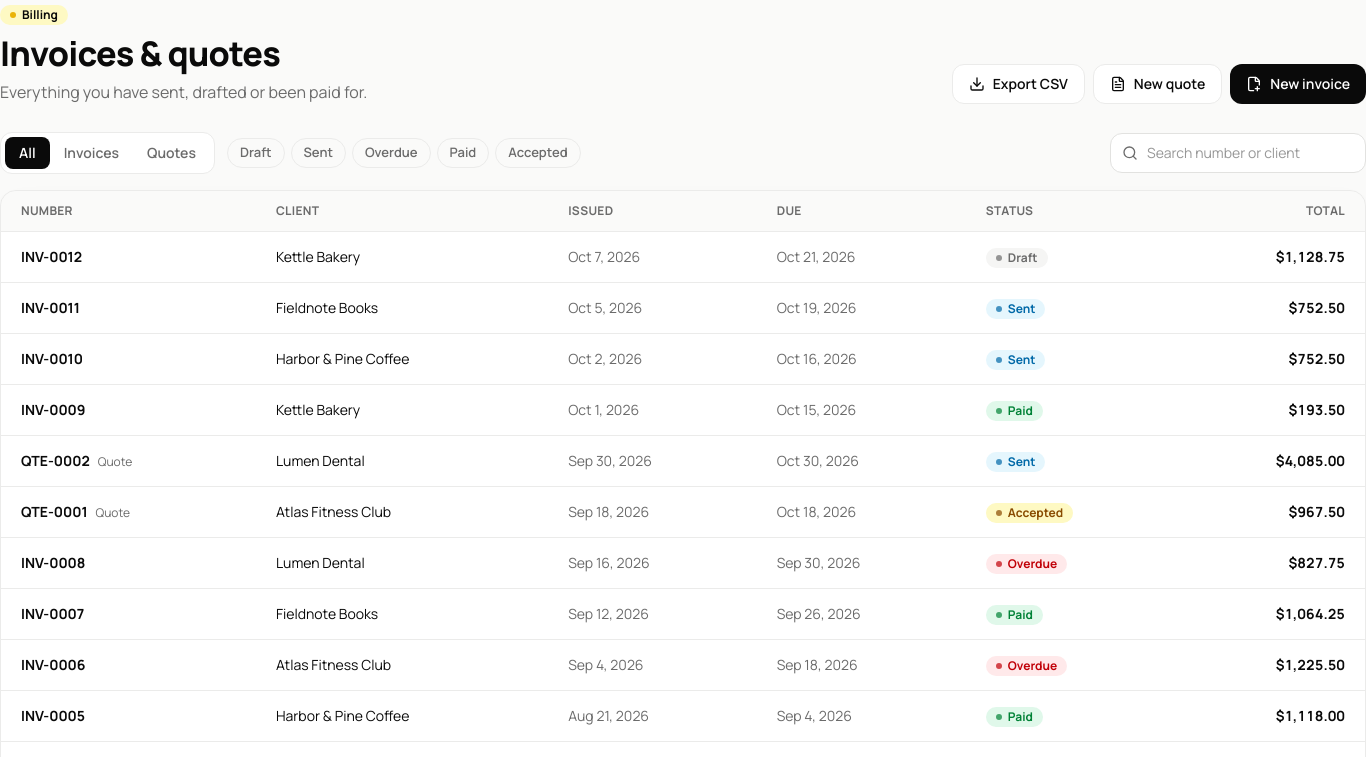
Documents page › filters by type and status, and searches by client
The width and height of the screenshot is (1366, 757).
Click the tab "Quotes" at (171, 153), box x1=133 y1=137 x2=210 y2=169
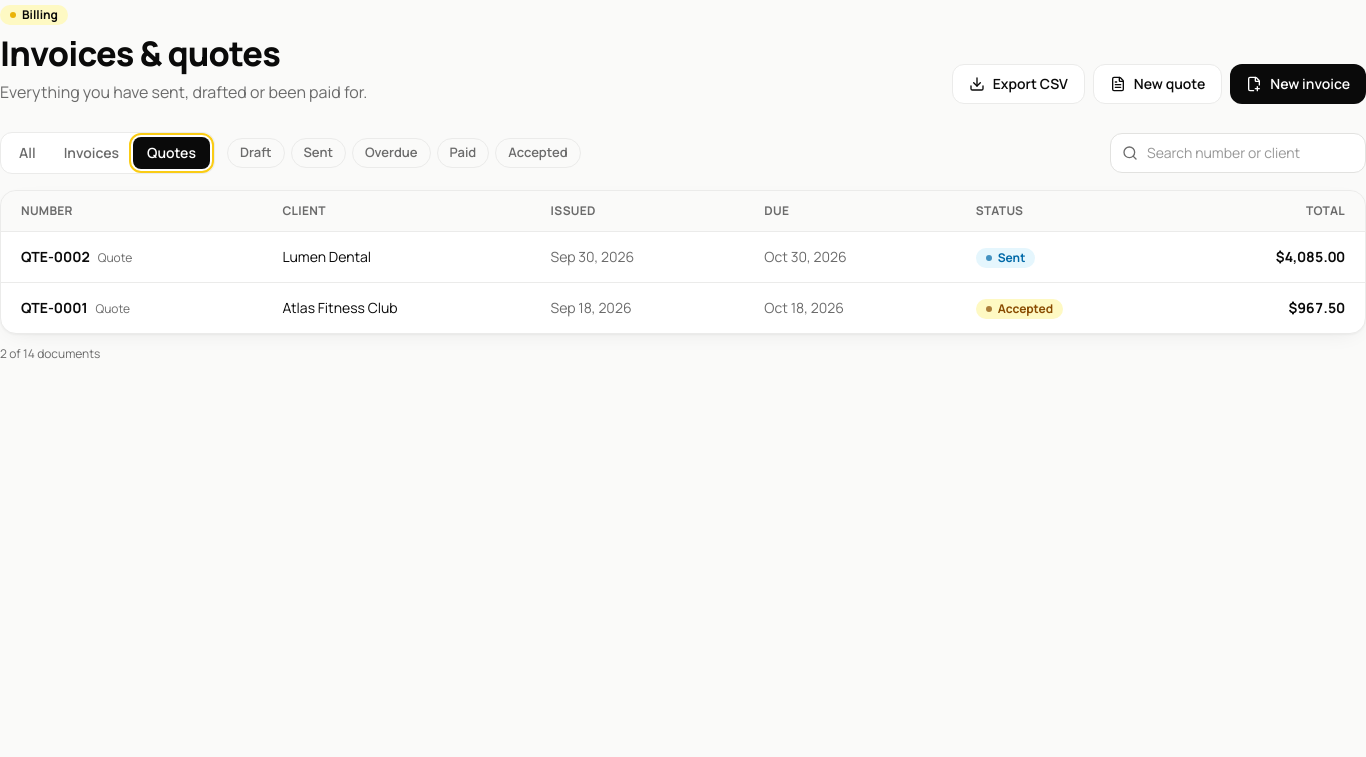
Expected: the text "2 of 14 documents" is shown, x1=0 y1=345 x2=100 y2=362
Click the tab "Invoices" at (91, 153), box x1=50 y1=137 x2=133 y2=169
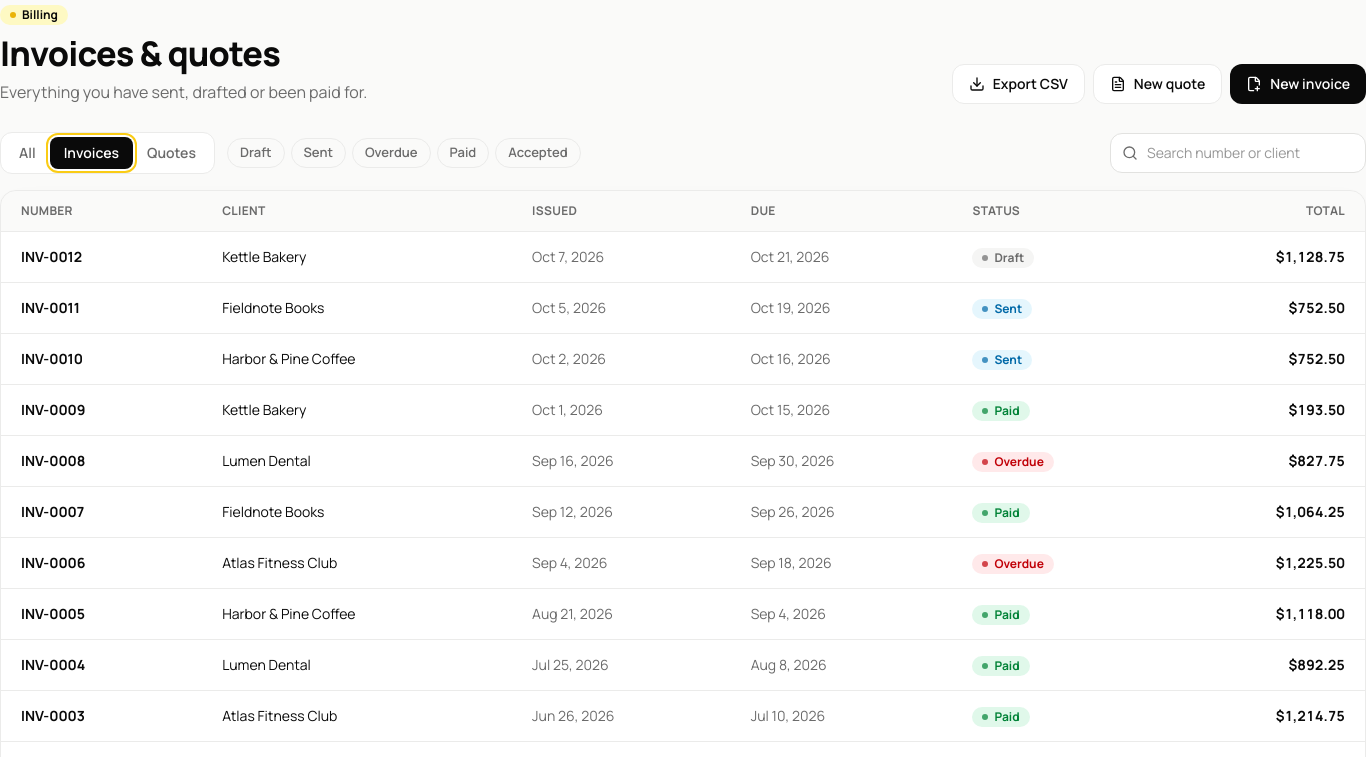
Click the button "Overdue" at (391, 153), box x1=352 y1=138 x2=431 y2=168
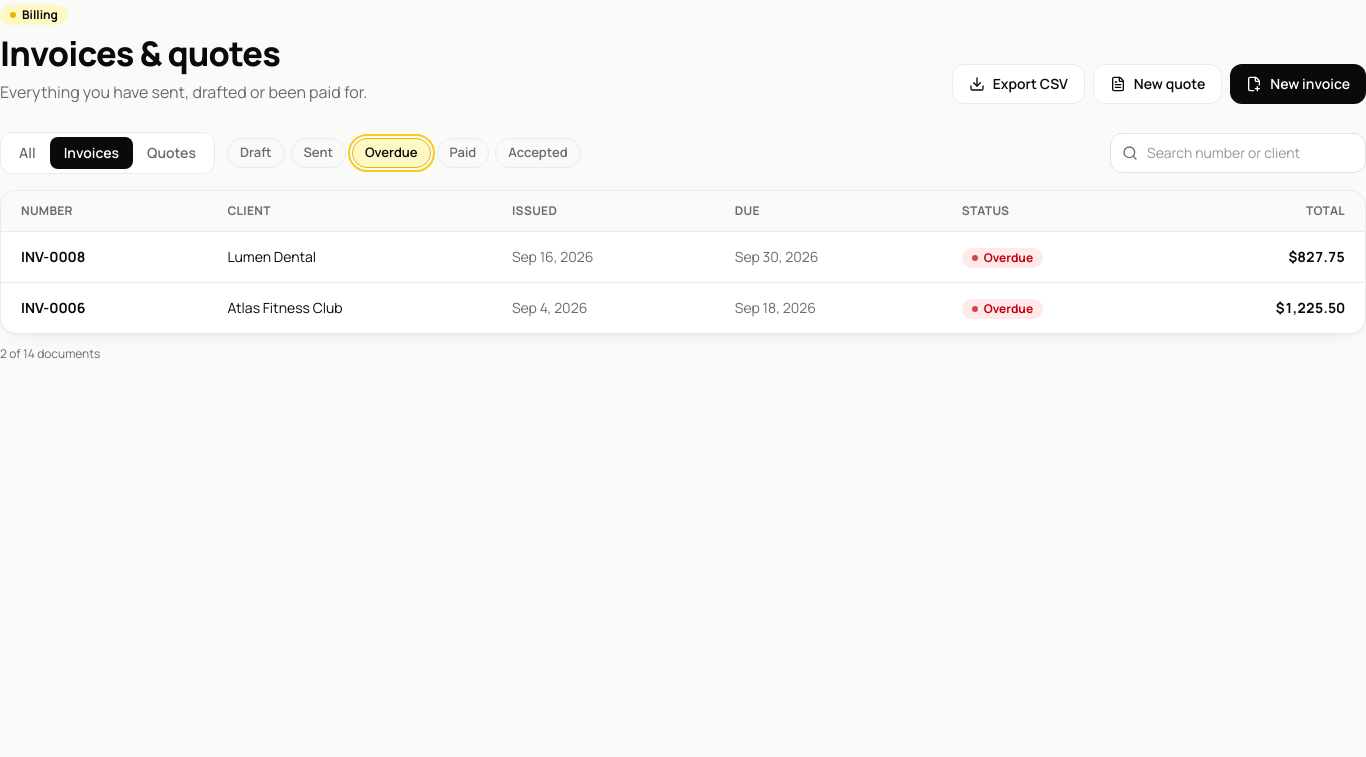
Expected: the text "2 of 14 documents" is shown, x1=0 y1=345 x2=100 y2=362
Click the button "Overdue" at (391, 153), box x1=352 y1=138 x2=431 y2=168
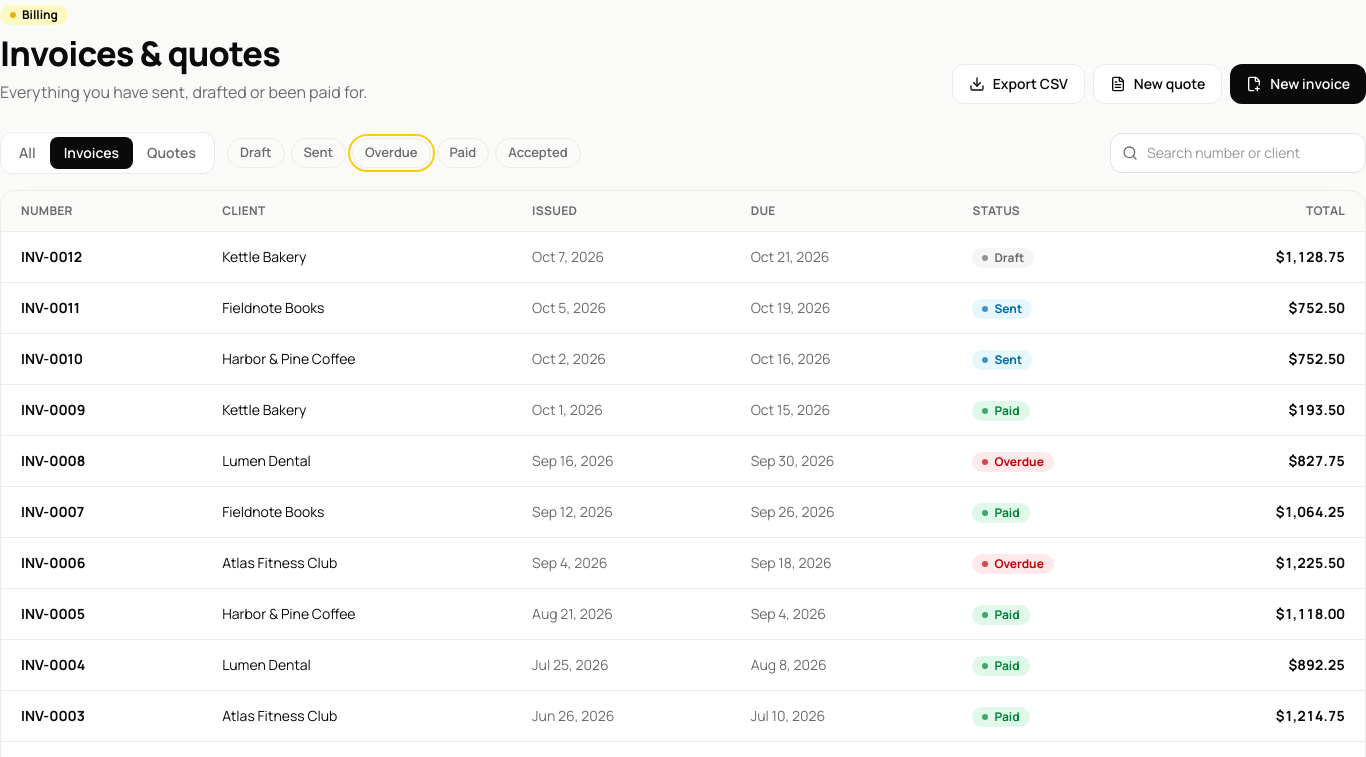
Type "kettle" into the field named "Search documents" at (1238, 153), box x1=1110 y1=133 x2=1365 y2=173
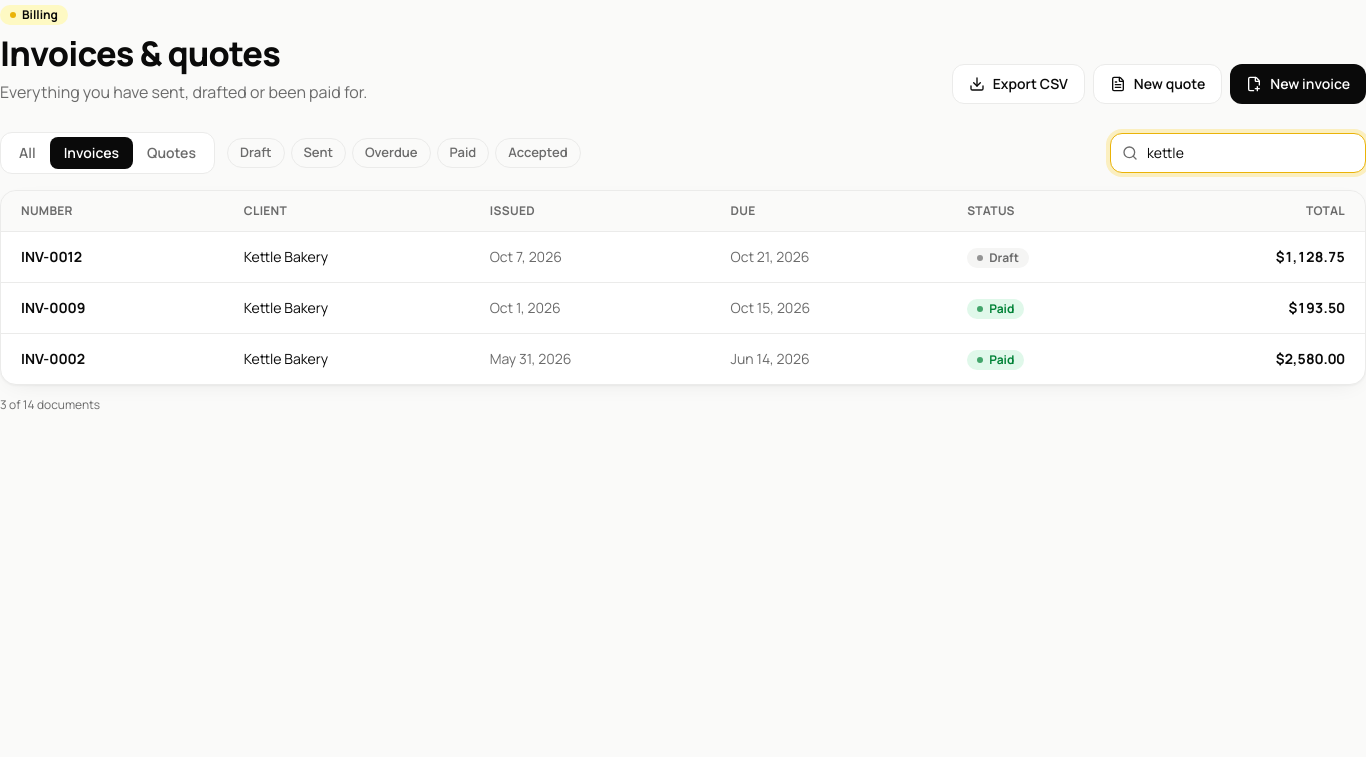
Expected: the text "3 of 14 documents" is shown, x1=0 y1=396 x2=100 y2=413
